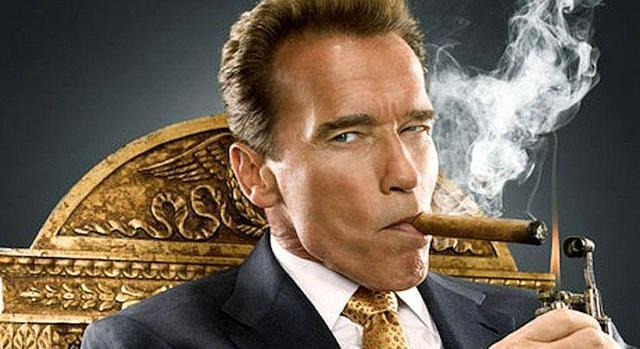smoking: (413, 207, 564, 254)
